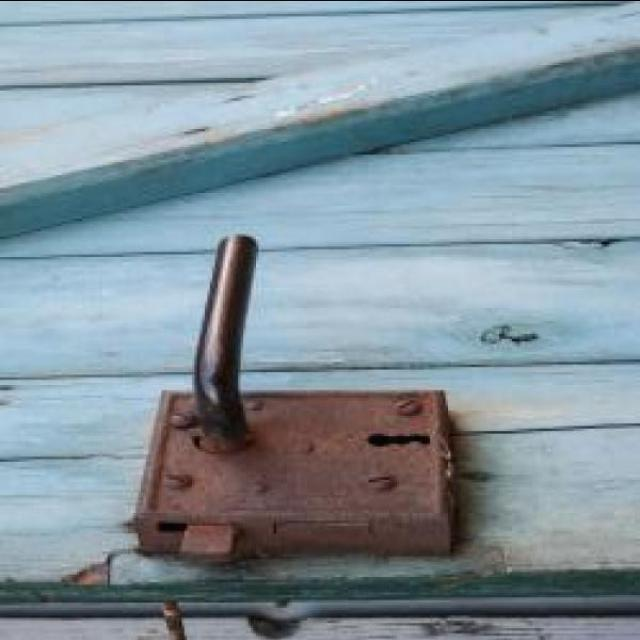Crack: (1, 39, 638, 240)
